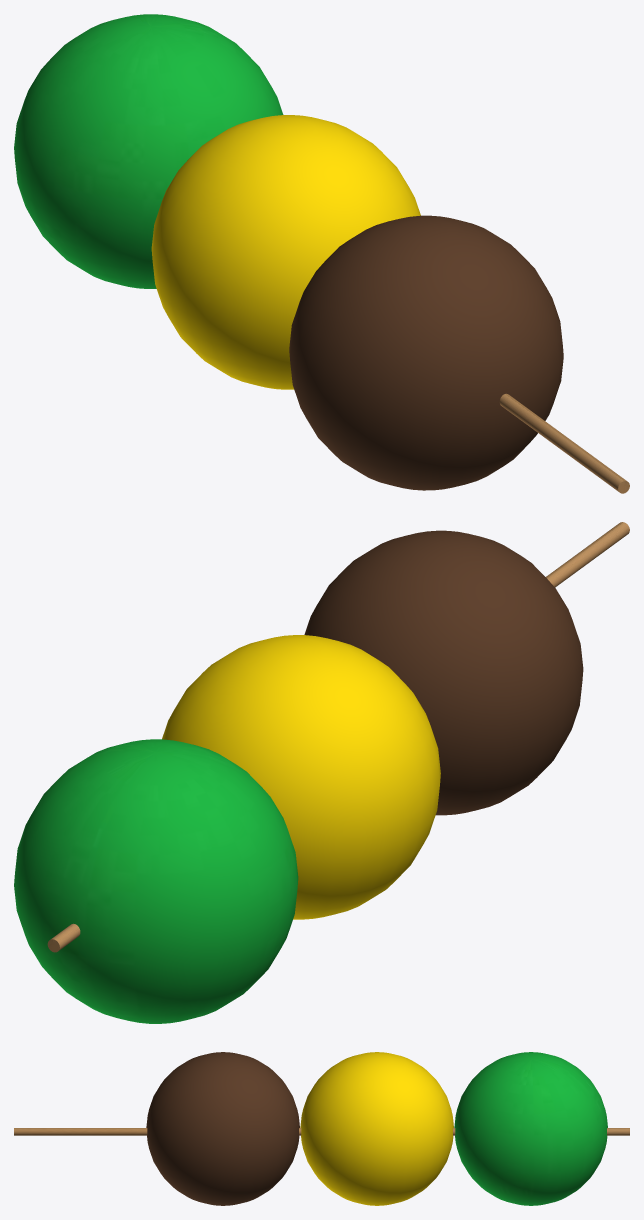
Rendered from dedication item.fbx.
The picture shows the model from 3 angles, top to bottom: view 1: azimuth 30°, elevation 25°; view 2: azimuth 150°, elevation 25°; view 3: azimuth 270°, elevation 25°; orthographic projection. The views are drawn at different scales.
Parts seen in each view (by area): view 1: Sphere001, Sphere002, Sphere003, Cylinder001; view 2: Sphere003, Sphere002, Sphere001, Cylinder001; view 3: Sphere001, Sphere002, Sphere003, Cylinder001.
Boxes of the visible parts, bbox=[...] form: Sphere001: bbox=[289, 215, 563, 490]; Sphere002: bbox=[151, 115, 420, 389]; Sphere003: bbox=[14, 14, 283, 288]; Cylinder001: bbox=[499, 393, 629, 493]; Sphere003: bbox=[14, 739, 298, 1023]; Sphere002: bbox=[162, 635, 440, 919]; Sphere001: bbox=[304, 530, 583, 815]; Cylinder001: bbox=[47, 522, 629, 952]; Sphere001: bbox=[146, 1052, 299, 1205]; Sphere002: bbox=[300, 1052, 453, 1205]; Sphere003: bbox=[454, 1052, 607, 1205]; Cylinder001: bbox=[14, 1128, 629, 1135].
Bounding box in the file's own units: 20 × 20 × 80.
